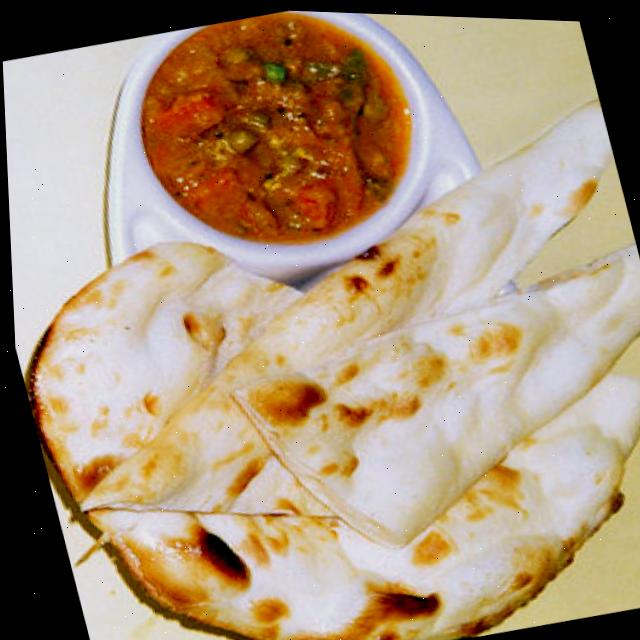牛肉菜式: (98, 3, 467, 287)
